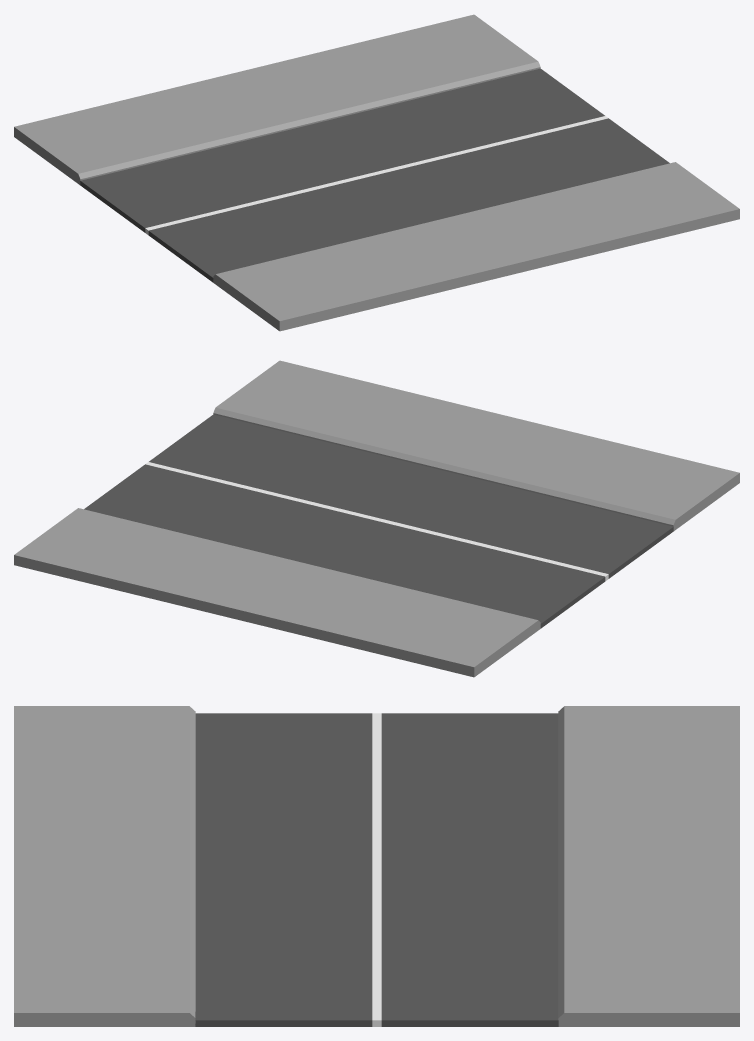
The model's file is roadStraight.fbx.
3 renders of one model, top to bottom at view 1: azimuth 30°, elevation 25°; view 2: azimuth 150°, elevation 25°; view 3: azimuth 270°, elevation 25°, orthographic. The views are drawn at different scales.
Visible parts, largest first — view 1: RoadStraight; view 2: RoadStraight; view 3: RoadStraight.
Boxes of the visible parts, x1,y1,x2,y2 form: RoadStraight: (14, 14, 739, 331); RoadStraight: (14, 360, 739, 677); RoadStraight: (14, 706, 739, 1026).
Bounding box in the file's own units: 2000 × 42.29 × 2000.
